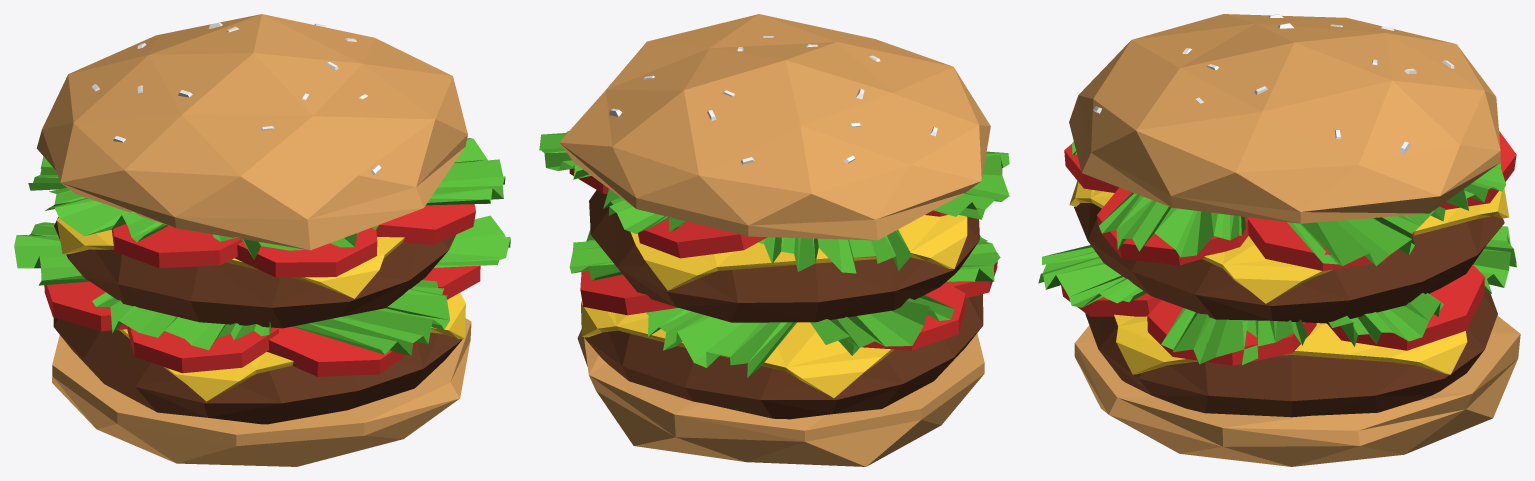
File: BurgerLarge.obj
The picture shows the model from 3 angles, left to right: view 1: azimuth 30°, elevation 25°; view 2: azimuth 150°, elevation 25°; view 3: azimuth 270°, elevation 25°; orthographic projection. The views are drawn at different scales.
Visible parts, largest first — view 1: BurgerLarge_LightYellow, BurgerLarge_Brown, BurgerLarge_Red, BurgerLarge_LightGreen, BurgerLarge_Yellow, BurgerLarge_White; view 2: BurgerLarge_LightYellow, BurgerLarge_Brown, BurgerLarge_LightGreen, BurgerLarge_Yellow, BurgerLarge_Red, BurgerLarge_White; view 3: BurgerLarge_LightYellow, BurgerLarge_Brown, BurgerLarge_LightGreen, BurgerLarge_Red, BurgerLarge_Yellow, BurgerLarge_White.
Boxes of the visible parts, <box> form: BurgerLarge_LightYellow: <box>36,14,471,466</box>; BurgerLarge_Brown: <box>53,217,462,424</box>; BurgerLarge_Red: <box>44,204,480,376</box>; BurgerLarge_LightGreen: <box>14,138,510,355</box>; BurgerLarge_Yellow: <box>57,217,465,401</box>; BurgerLarge_White: <box>91,22,381,175</box>; BurgerLarge_LightYellow: <box>559,14,990,466</box>; BurgerLarge_Brown: <box>584,190,983,419</box>; BurgerLarge_LightGreen: <box>539,131,1009,378</box>; BurgerLarge_Yellow: <box>581,214,967,397</box>; BurgerLarge_Red: <box>569,168,1002,350</box>; BurgerLarge_White: <box>609,32,937,164</box>; BurgerLarge_LightYellow: <box>1069,14,1520,466</box>; BurgerLarge_Brown: <box>1074,203,1504,417</box>; BurgerLarge_LightGreen: <box>1038,141,1516,364</box>; BurgerLarge_Red: <box>1061,131,1516,365</box>; BurgerLarge_Yellow: <box>1069,181,1509,374</box>; BurgerLarge_White: <box>1093,14,1454,155</box>.
Size of the model in its own units: 1.72 by 1.45 by 1.67.
